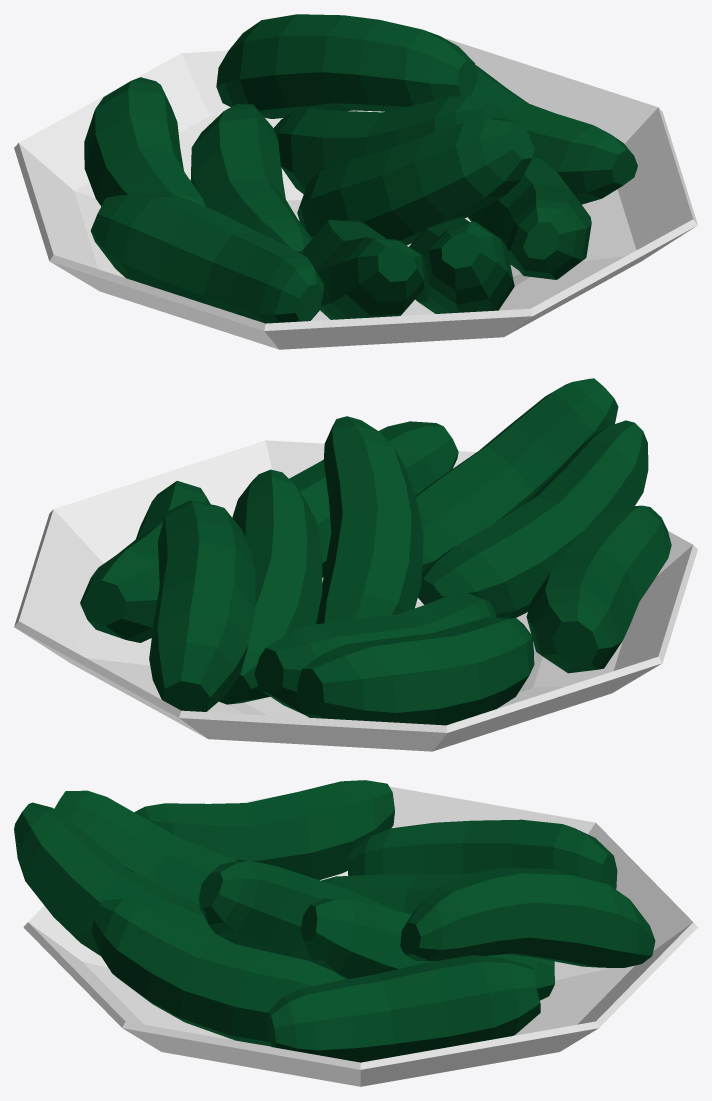
Rendered from SM_CucumberBowl.fbx.
3 views of the same model, one above another, from view 1: azimuth 30°, elevation 25°; view 2: azimuth 150°, elevation 25°; view 3: azimuth 270°, elevation 25° (orthographic). The views are drawn at different scales.
Parts seen in each view (by area): view 1: SM_CucumberBowl; view 2: SM_CucumberBowl; view 3: SM_CucumberBowl.
Boxes of the visible parts, x1=… form: SM_CucumberBowl: x1=14, y1=14, x2=697, y2=349; SM_CucumberBowl: x1=14, y1=378, x2=697, y2=751; SM_CucumberBowl: x1=14, y1=780, x2=697, y2=1086.
Bounding box in the file's own units: 27.94 × 7.81 × 28.33.
